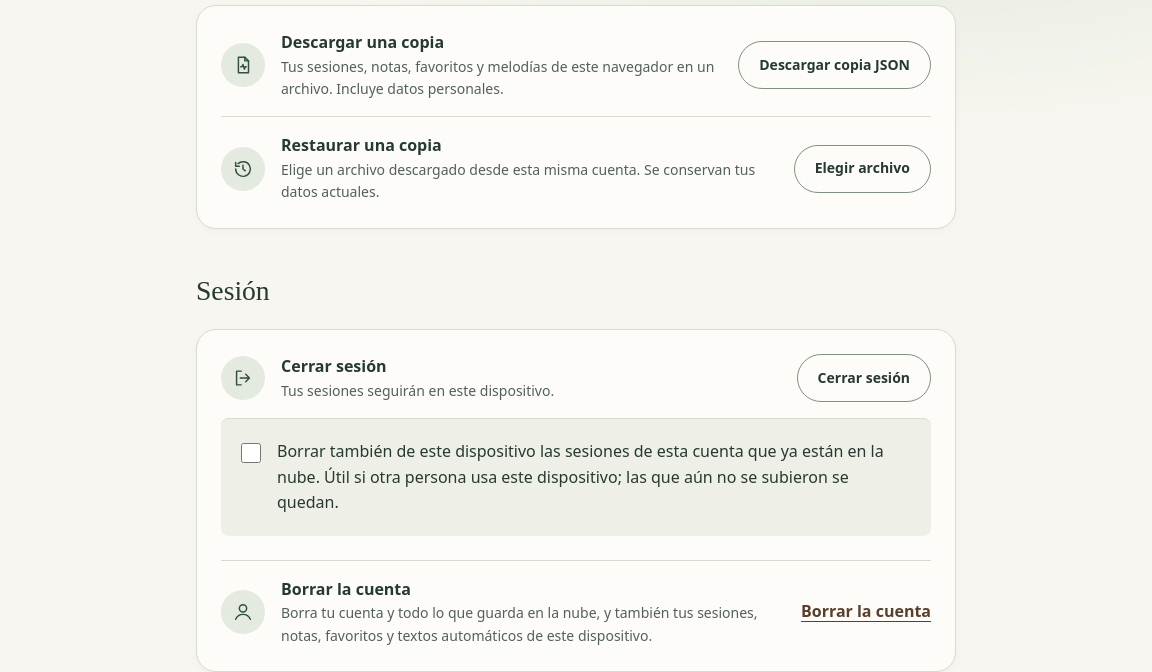
it: screens that act on the cloud › keeps the data on this device when the cloud refuses to delete the account
(page scrolled)
Click the button "Borrar la cuenta".
click(866, 612)  # box left=801, top=588, right=931, bottom=636
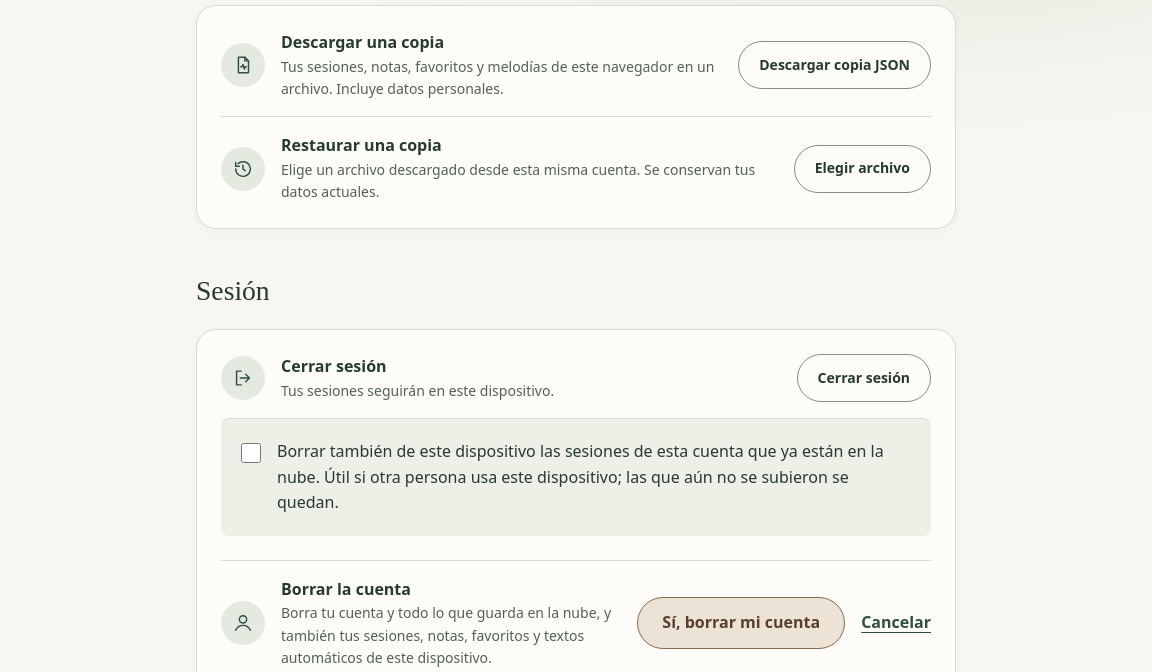
Click the button "Sí, borrar mi cuenta".
click(741, 623)  # box left=637, top=597, right=845, bottom=649
(page scrolled)
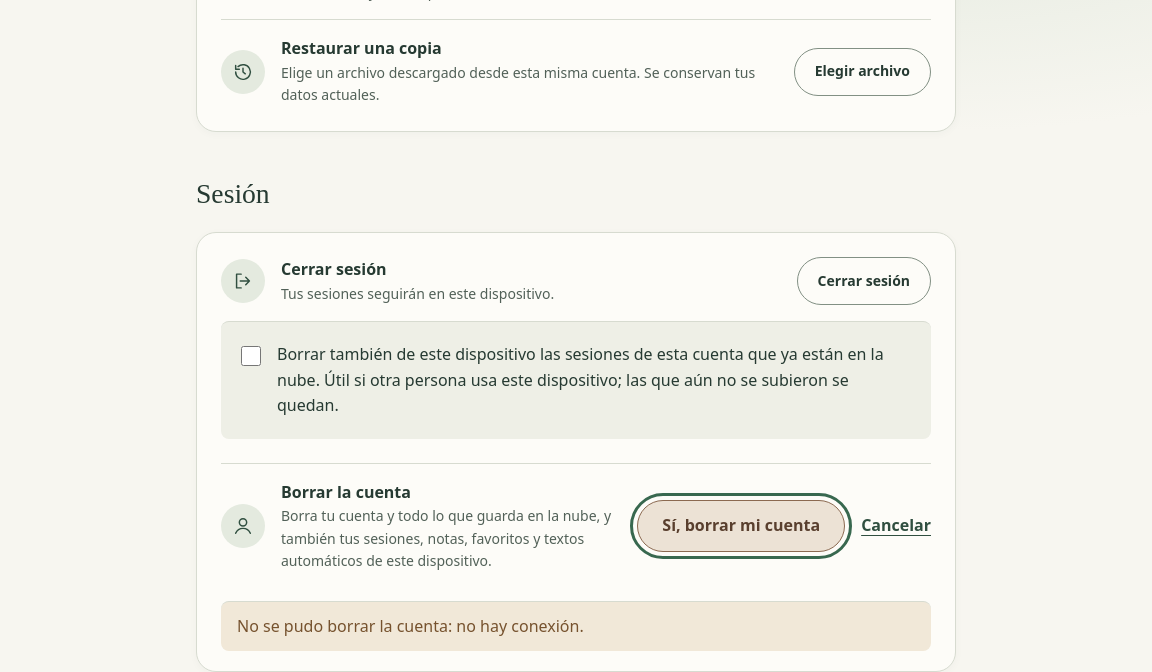
Result: the message "No se pudo borrar la cuenta: no hay conexión." is shown at left=221, top=600, right=931, bottom=651
